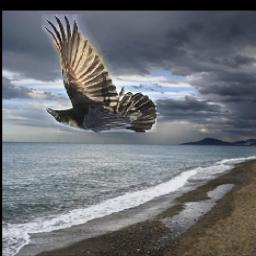Crow: (43, 15, 158, 133)
